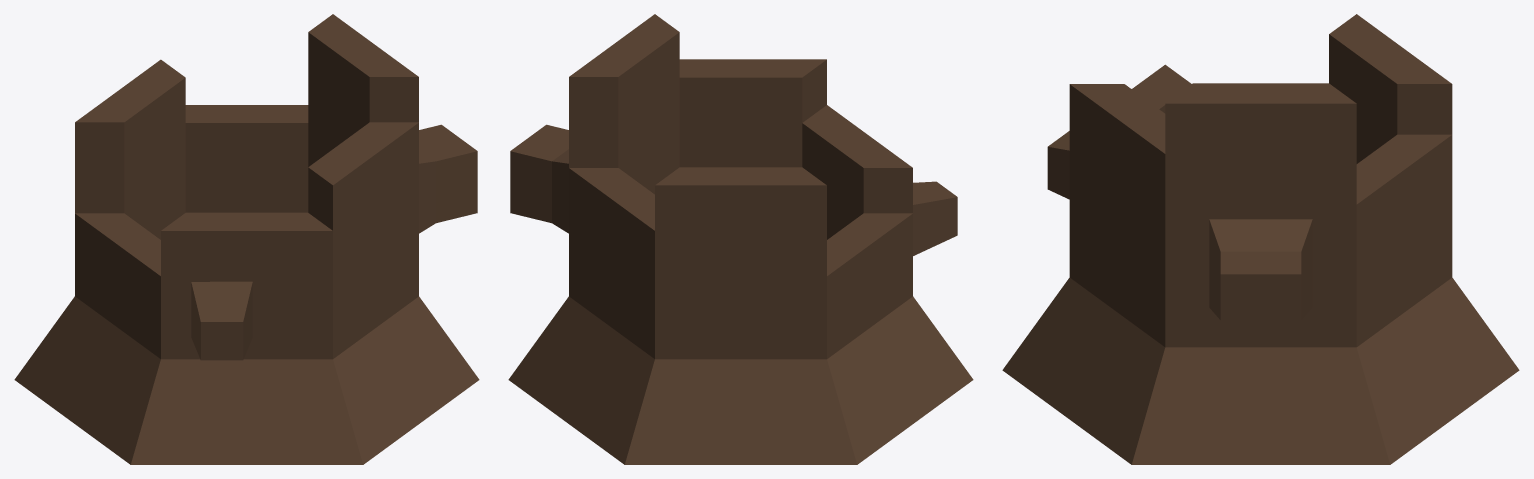
File: souche.glb
The picture shows the model from 3 angles, left to right: view 1: azimuth 30°, elevation 25°; view 2: azimuth 150°, elevation 25°; view 3: azimuth 270°, elevation 25°; orthographic projection. The views are drawn at different scales.
Parts seen in each view (by area): view 1: stump_old; view 2: stump_old; view 3: stump_old.
Part boxes in pixels (bbox=[...]): stump_old: bbox=[14, 14, 479, 464]; stump_old: bbox=[508, 14, 973, 464]; stump_old: bbox=[1002, 14, 1519, 464].
Size of the model in its own units: 1.15 by 0.862 by 1.2.
